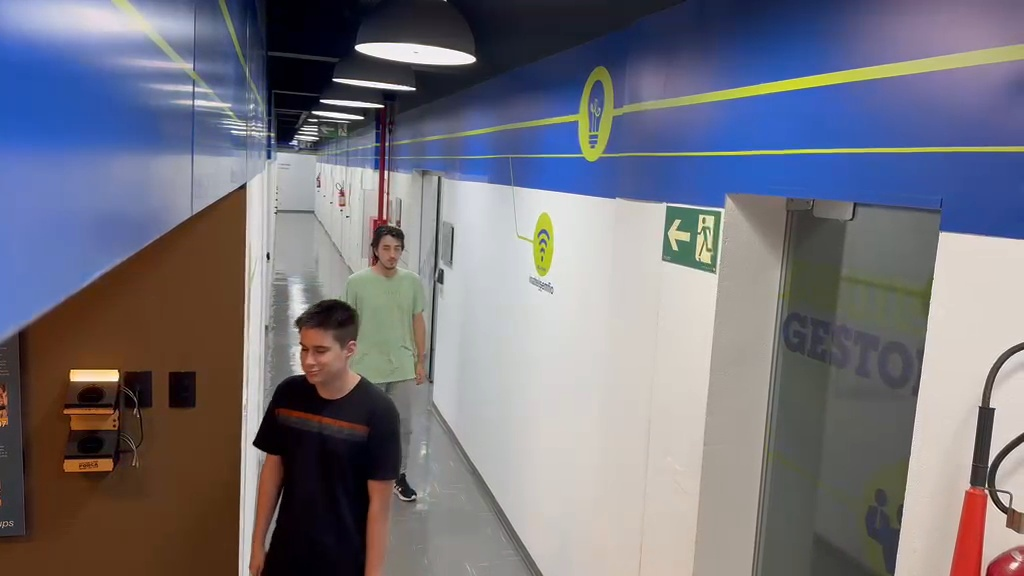person: (251, 298, 404, 573), (344, 221, 433, 506)
